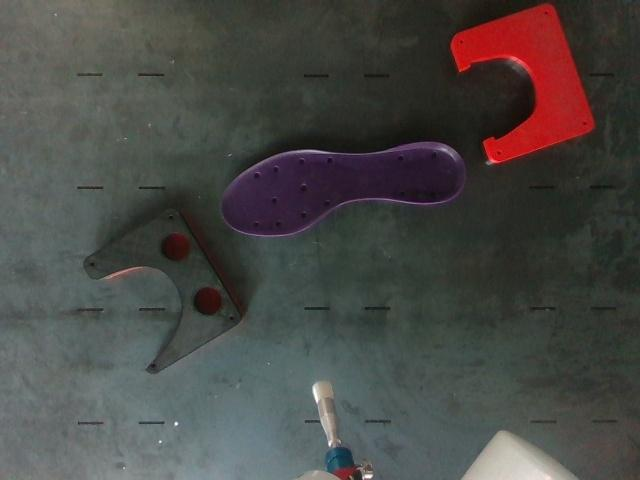shoes: (223, 145, 463, 234)
